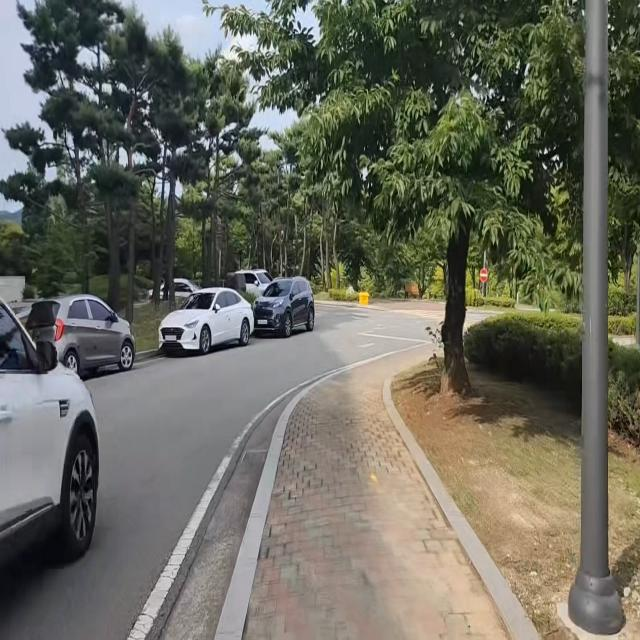obstacle: (569, 0, 625, 637), (0, 279, 102, 624), (23, 285, 139, 378), (155, 280, 255, 366), (229, 267, 318, 338)
road: (0, 299, 442, 640)
sidewalk: (216, 339, 546, 640)
